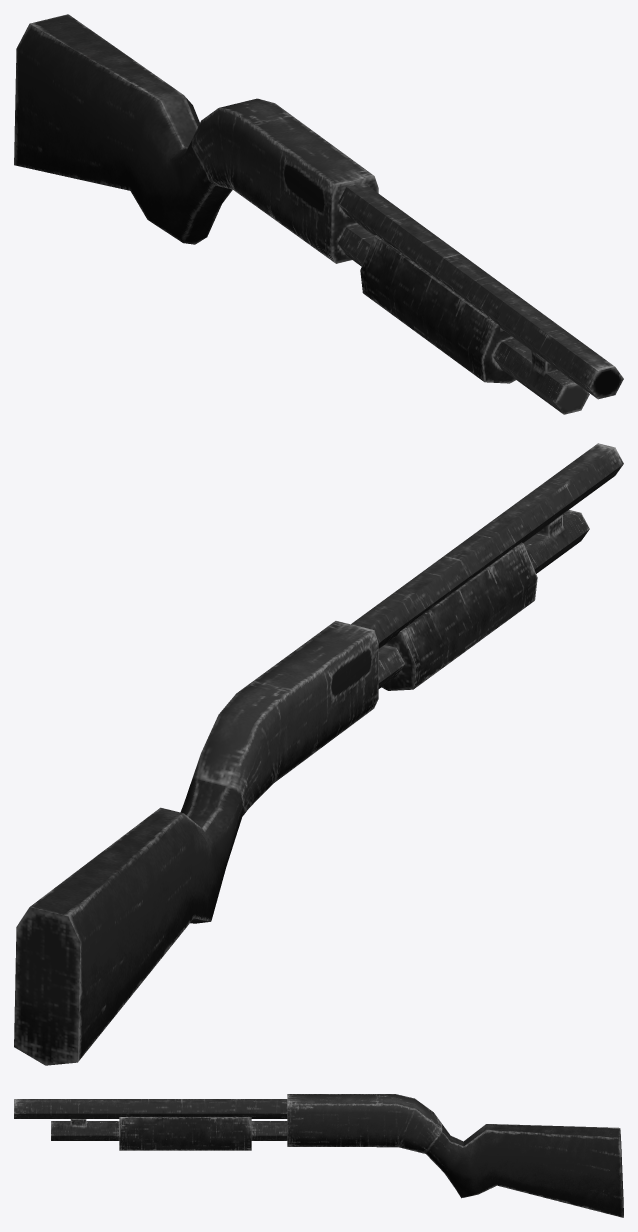
File: Props_Shotgun_1.FBX
3 views of the same model, one above another, from view 1: azimuth 30°, elevation 25°; view 2: azimuth 150°, elevation 25°; view 3: azimuth 270°, elevation 25° (orthographic). The views are drawn at different scales.
Parts seen in each view (by area): view 1: Shotgun_1; view 2: Shotgun_1; view 3: Shotgun_1.
Part boxes in pixels (<box>): Shotgun_1: <box>14,14,623,414</box>; Shotgun_1: <box>14,443,623,1065</box>; Shotgun_1: <box>14,1094,623,1217</box>.
Bounding box in the file's own units: 14.12 × 45.19 × 215.
Materials: 1 (1 with a texture image).
